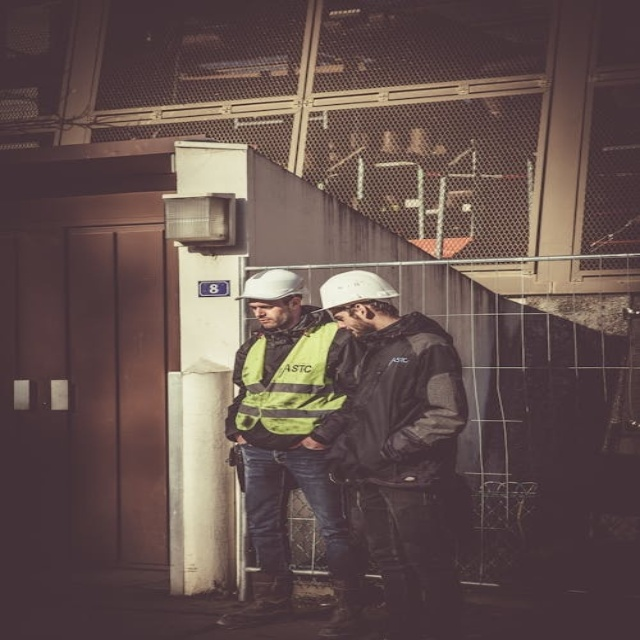Sin_gafas: (248, 300, 276, 312), (329, 309, 348, 325)
Sin_mascara: (338, 324, 367, 338), (252, 315, 276, 328)
